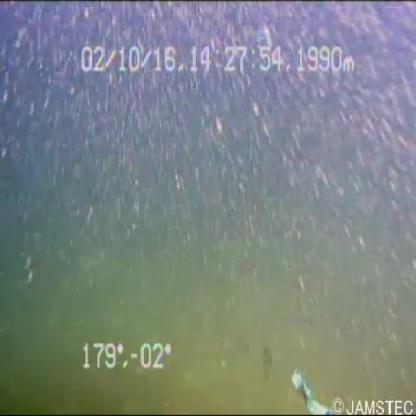Rác: (281, 364, 339, 416)
